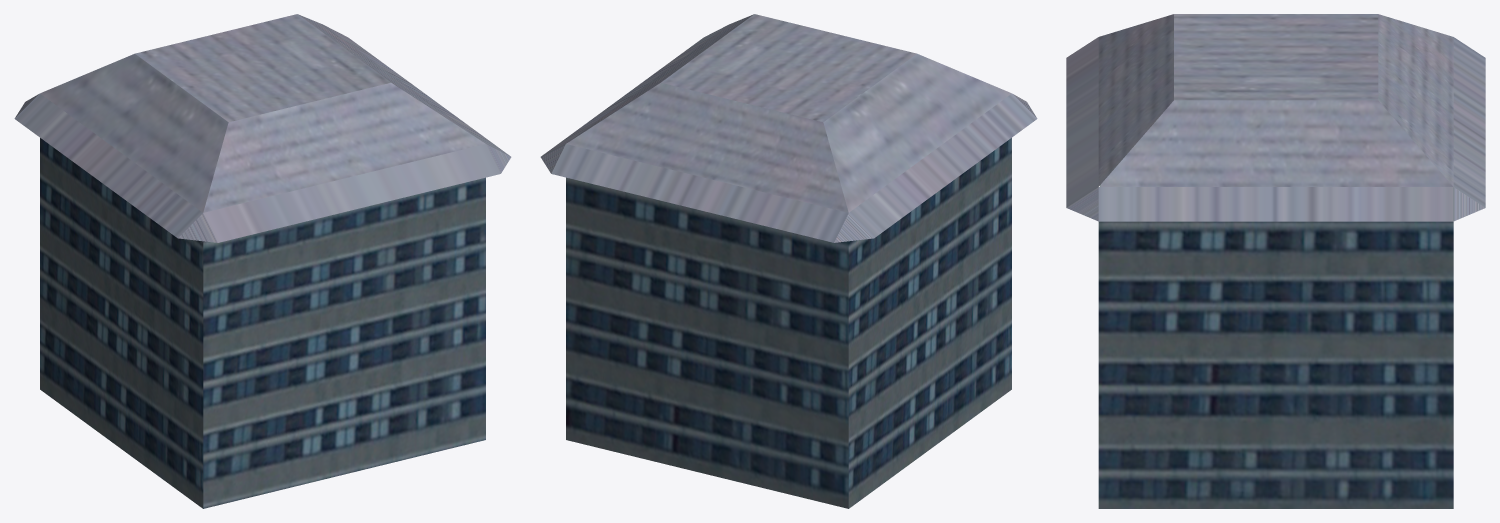
The model's file is building4.obj.
The picture shows the model from 3 angles, left to right: view 1: azimuth 30°, elevation 25°; view 2: azimuth 150°, elevation 25°; view 3: azimuth 270°, elevation 25°; orthographic projection. The views are drawn at different scales.
Visible parts, largest first — view 1: Cube; view 2: Cube; view 3: Cube.
Part boxes in pixels (<box>): Cube: <box>14,14,511,508</box>; Cube: <box>540,14,1037,508</box>; Cube: <box>1066,14,1485,508</box>.
Size of the model in its own units: 2.36 by 2.34 by 2.36.
Materials: 1 (1 with a texture image).
